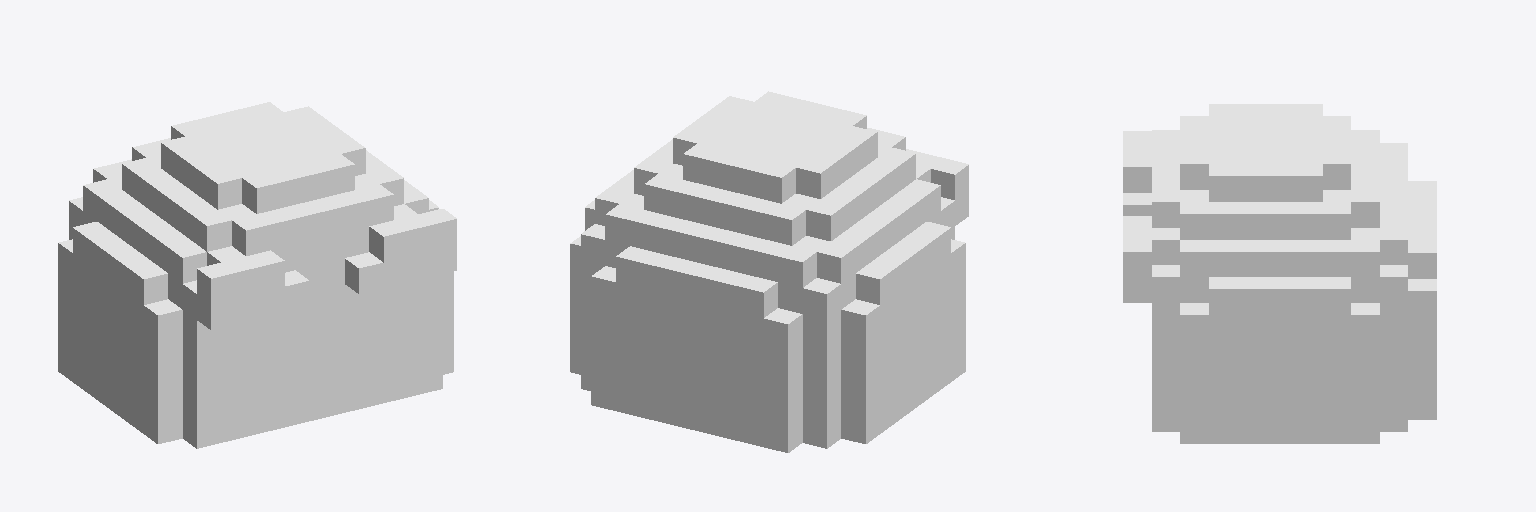
The model's file is BenRock.obj.
3 renders of one model, left to right at view 1: azimuth 30°, elevation 25°; view 2: azimuth 150°, elevation 25°; view 3: azimuth 270°, elevation 25°, orthographic.
Visible parts, largest first — view 1: object 1; view 2: object 1; view 3: object 1.
Boxes of the visible parts, x1=… form: object 1: x1=58, y1=102, x2=456, y2=448; object 1: x1=570, y1=91, x2=968, y2=452; object 1: x1=1123, y1=104, x2=1436, y2=443.
Bounding box in the file's own units: 1.2 × 0.9 × 1.1.